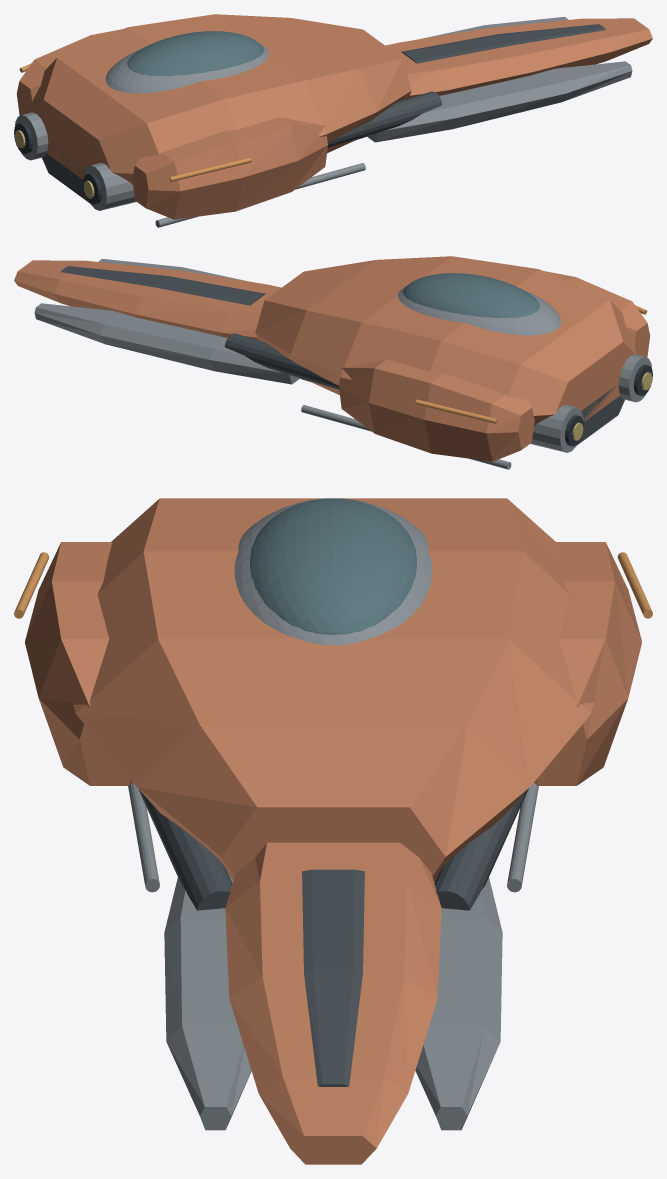
The model's file is scud_orange_off.glb.
The picture shows the model from 3 angles, top to bottom: view 1: azimuth 30°, elevation 25°; view 2: azimuth 150°, elevation 25°; view 3: azimuth 270°, elevation 25°; orthographic projection. The views are drawn at different scales.
Visible parts, largest first — view 1: rear_core_0, rear_side_body_5, forward_body_2, forward_side_fin_7, canopy_glass_4, front_inset_14, canopy_rim_3, rear_engine_housing_9, connecting_arm_8, lower_keel_1, underside_ski_12, rear_engine_face_10 (+2 smaller); view 2: rear_core_0, rear_side_body_5, forward_body_2, forward_side_fin_7, canopy_glass_4, front_inset_14, canopy_rim_3, rear_engine_housing_9, connecting_arm_8, lower_keel_1, underside_ski_12, rear_engine_face_10 (+2 smaller); view 3: rear_core_0, forward_body_2, rear_side_body_5, forward_side_fin_7, canopy_glass_4, front_inset_14, connecting_arm_8, canopy_rim_3, underside_ski_12, side_light_6.
Part boxes in pixels (x1=…): rear_core_0: x1=31, y1=14, x2=411, y2=184; rear_side_body_5: x1=16, y1=29, x2=327, y2=219; forward_body_2: x1=385, y1=18, x2=652, y2=97; forward_side_fin_7: x1=366, y1=16, x2=632, y2=142; canopy_glass_4: x1=127, y1=31, x2=264, y2=76; front_inset_14: x1=401, y1=24, x2=605, y2=63; canopy_rim_3: x1=105, y1=44, x2=268, y2=93; rear_engine_housing_9: x1=14, y1=112, x2=136, y2=210; connecting_arm_8: x1=327, y1=91, x2=442, y2=147; lower_keel_1: x1=42, y1=136, x2=366, y2=202; underside_ski_12: x1=155, y1=163, x2=365, y2=227; rear_engine_face_10: x1=14, y1=122, x2=101, y2=204; rear_core_0: x1=255, y1=256, x2=635, y2=425; rear_side_body_5: x1=339, y1=271, x2=650, y2=461; forward_body_2: x1=14, y1=260, x2=281, y2=339; forward_side_fin_7: x1=34, y1=258, x2=300, y2=384; canopy_glass_4: x1=402, y1=273, x2=539, y2=318; front_inset_14: x1=61, y1=266, x2=265, y2=305; canopy_rim_3: x1=398, y1=286, x2=561, y2=335; rear_engine_housing_9: x1=530, y1=354, x2=652, y2=452; connecting_arm_8: x1=224, y1=333, x2=339, y2=389; lower_keel_1: x1=300, y1=378, x2=624, y2=444; underside_ski_12: x1=301, y1=405, x2=511, y2=469; rear_engine_face_10: x1=565, y1=364, x2=652, y2=446; rear_core_0: x1=73, y1=498, x2=594, y2=881; forward_body_2: x1=225, y1=842, x2=441, y2=1164; rear_side_body_5: x1=25, y1=542, x2=641, y2=785; forward_side_fin_7: x1=164, y1=876, x2=502, y2=1130; canopy_glass_4: x1=250, y1=498, x2=416, y2=634; front_inset_14: x1=302, y1=869, x2=364, y2=1086; connecting_arm_8: x1=138, y1=789, x2=528, y2=910; canopy_rim_3: x1=234, y1=499, x2=432, y2=645; underside_ski_12: x1=128, y1=783, x2=538, y2=892; side_light_6: x1=14, y1=552, x2=652, y2=618.
Size of the model in its own units: 6.7 by 1.37 by 3.25.
